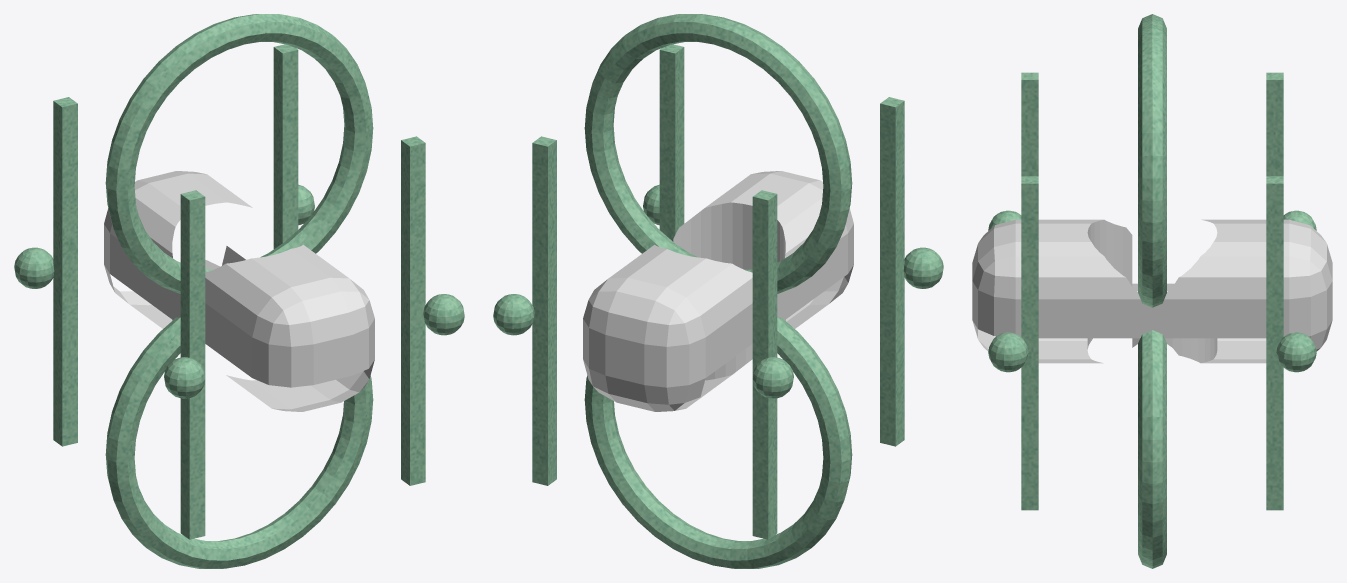
Rendered from jade-cong.glb.
The picture shows the model from 3 angles, left to right: view 1: azimuth 30°, elevation 25°; view 2: azimuth 150°, elevation 25°; view 3: azimuth 270°, elevation 25°; orthographic projection. The views are drawn at different scales.
Parts seen in each view (by area): view 1: Sphere.003; view 2: Sphere.003; view 3: Sphere.003.
Part boxes in pixels (x1,y1,x2,y2): Sphere.003: (14,14,464,568); Sphere.003: (493,14,943,568); Sphere.003: (972,14,1332,568).
Bounding box in the file's own units: 0.2273 × 0.404 × 0.25.
Materials: 1 (1 with a texture image).
